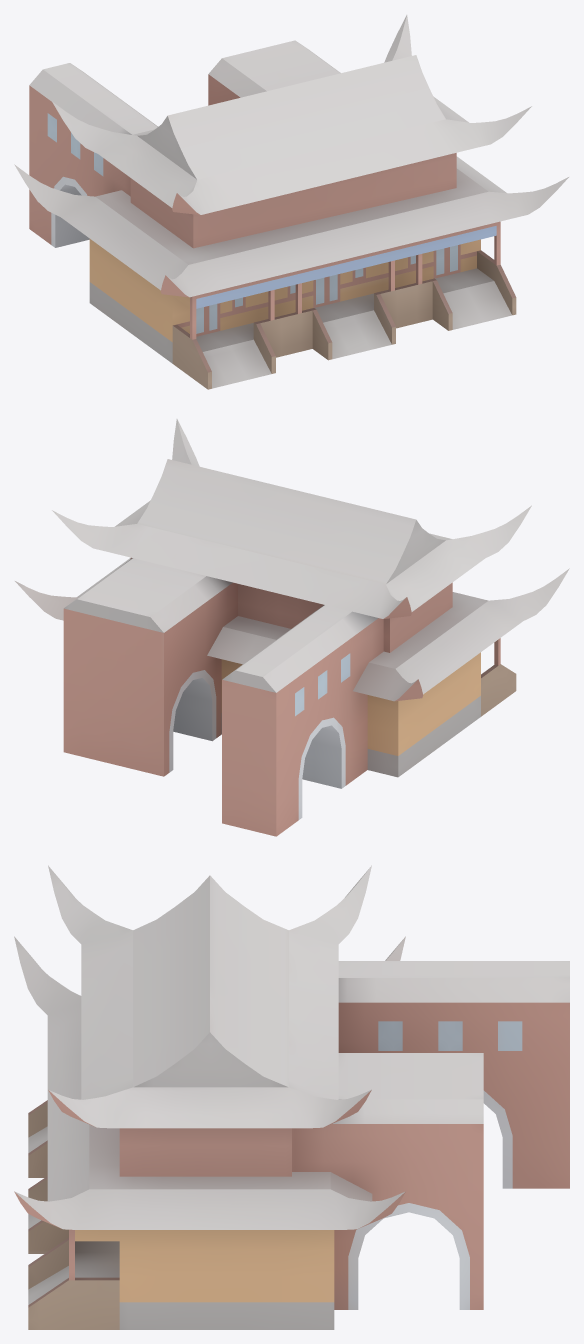
The picture shows the model from 3 angles, top to bottom: view 1: azimuth 30°, elevation 25°; view 2: azimuth 150°, elevation 25°; view 3: azimuth 270°, elevation 25°; orthographic projection. The views are drawn at different scales.
Visible parts, largest first — view 1: 70030076680620586_baked; view 2: 70030076680620586_baked; view 3: 70030076680620586_baked.
Part boxes in pixels (left/top/right/bottom): 70030076680620586_baked: left=14, top=15, right=568, bottom=389; 70030076680620586_baked: left=15, top=419, right=569, bottom=836; 70030076680620586_baked: left=14, top=865, right=569, bottom=1329.
Size of the model in its own units: 29.79 by 15.17 by 27.41.
Materials: 1 (1 with a texture image).
